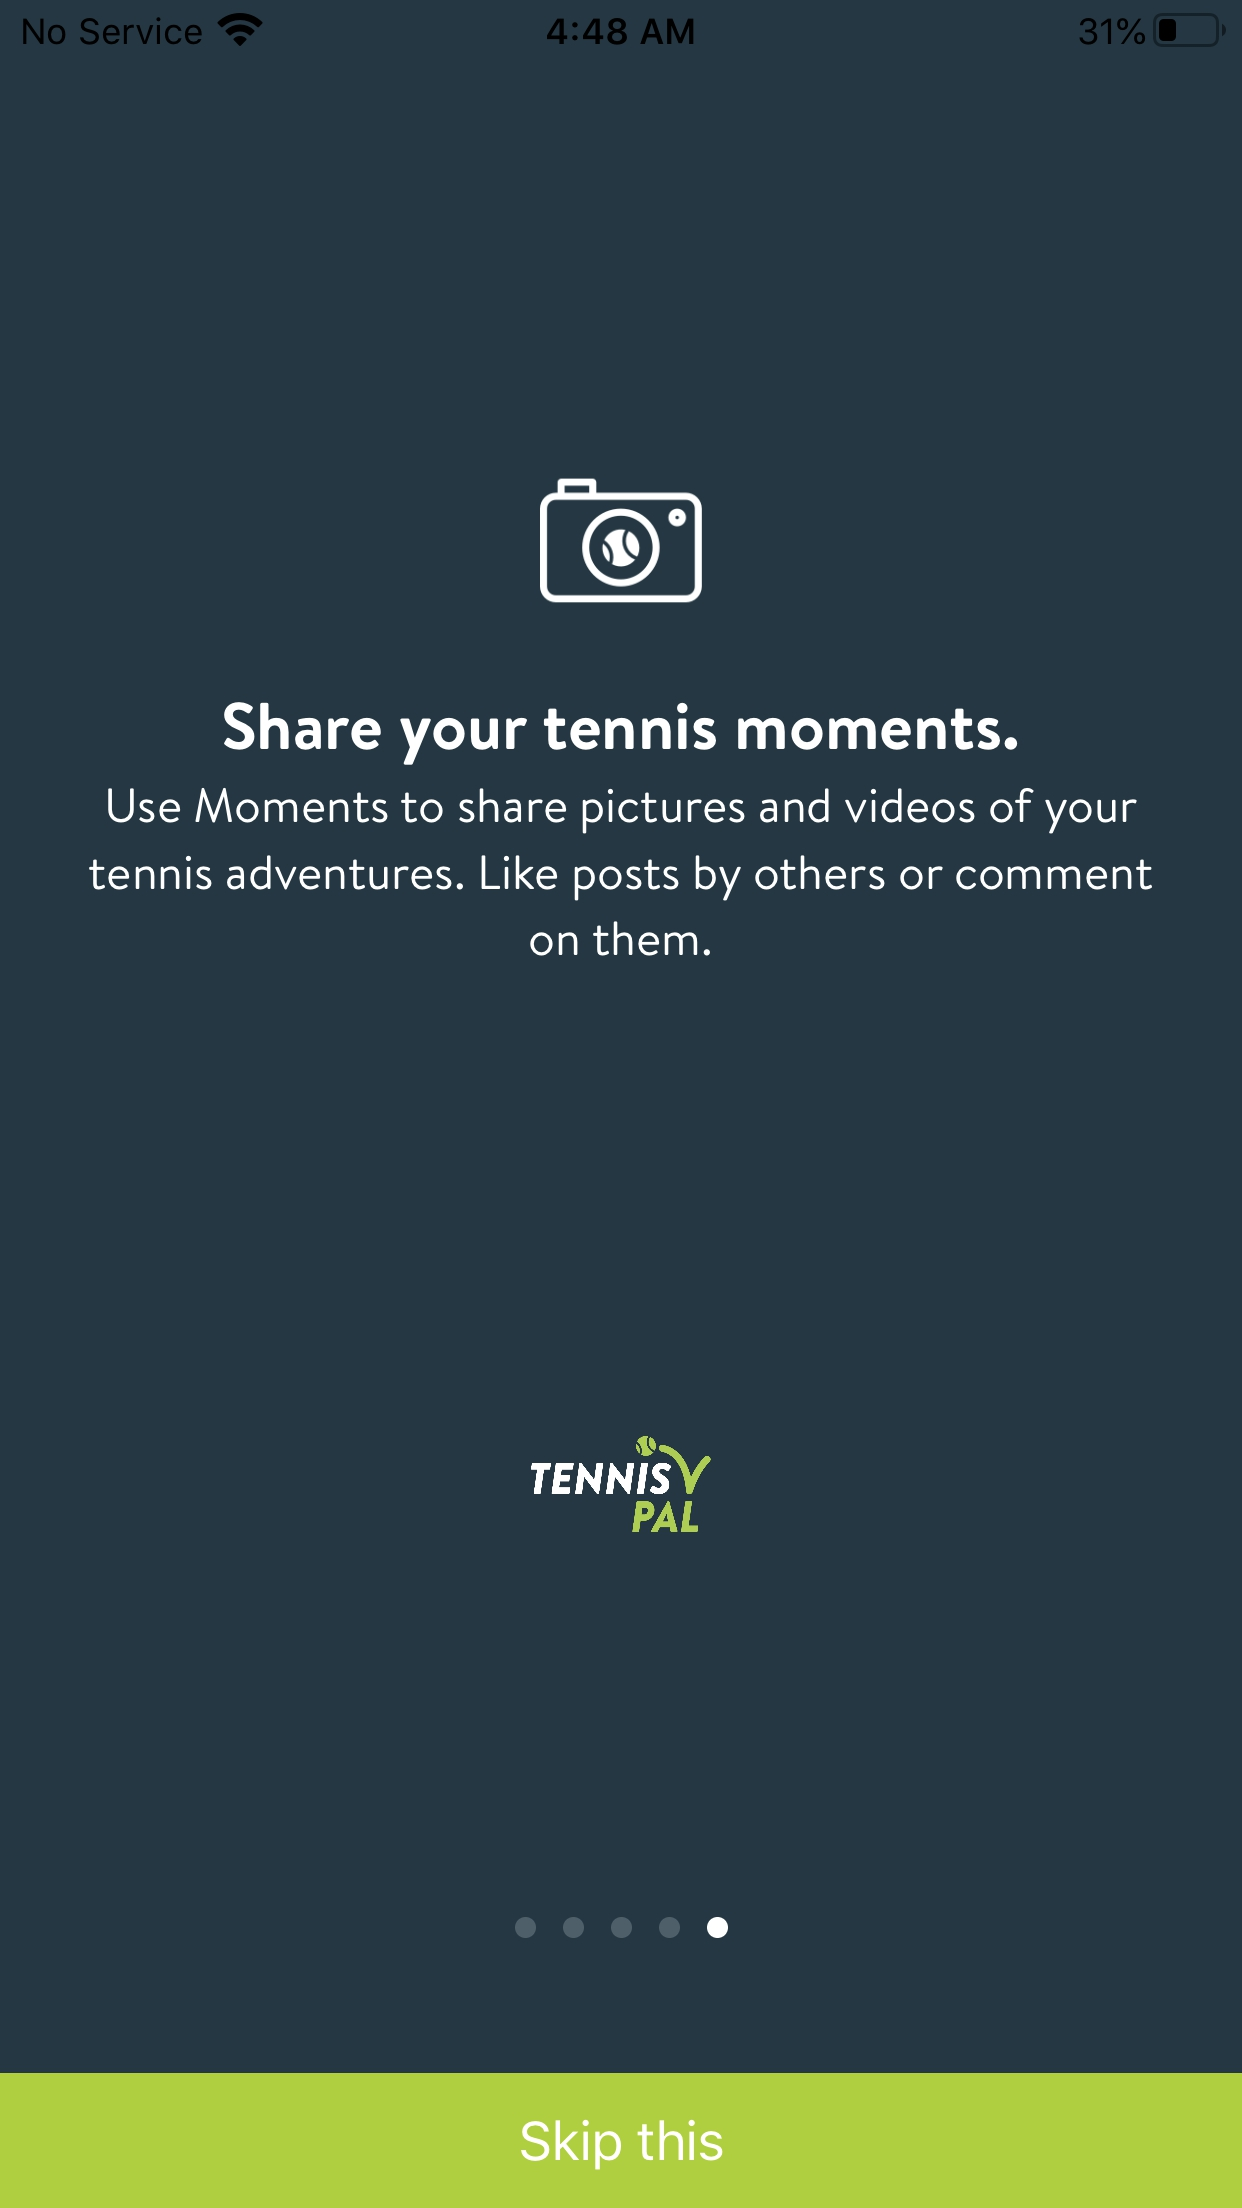Image: (540, 478, 702, 604), (531, 1436, 711, 1532)
PageIndicator: (516, 1915, 728, 1938)
Text: (89, 789, 1153, 955), (224, 702, 1018, 764)
TextButton: (2, 2073, 1242, 2208)
UpperTaskBar: (2, 2, 1242, 47)
